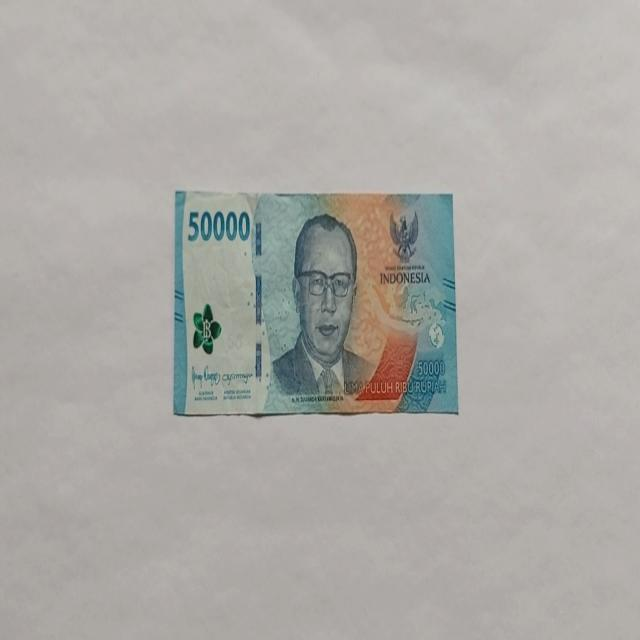lima puluh ribu rupiah: (172, 188, 458, 418), (267, 212, 377, 404)
